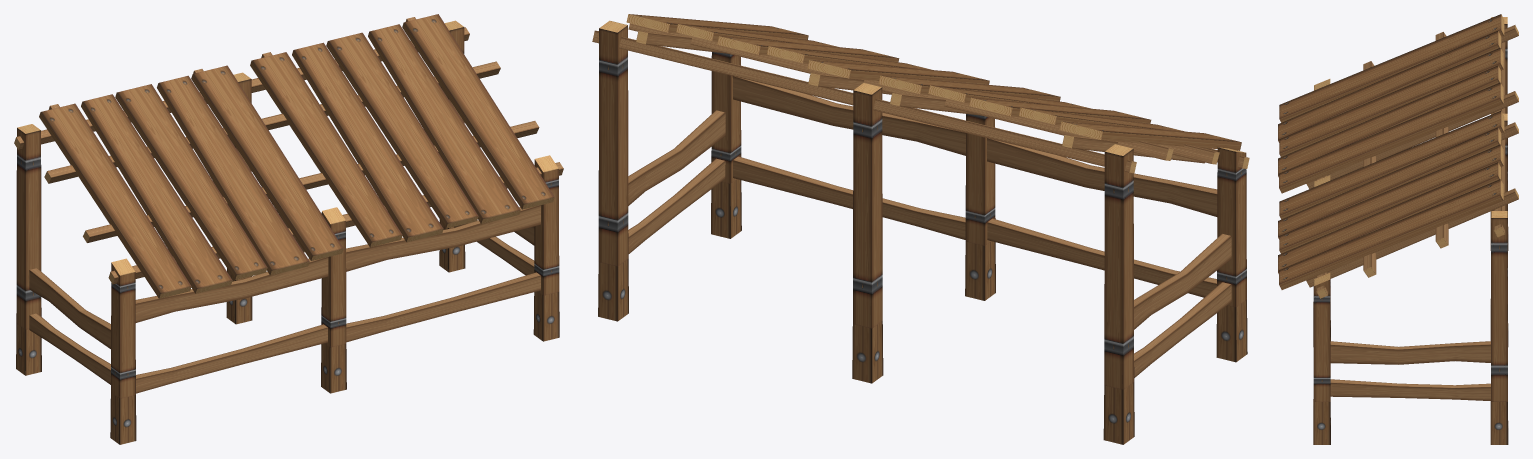
File: Shelters_02.FBX
3 renders of one model, left to right at view 1: azimuth 30°, elevation 25°; view 2: azimuth 150°, elevation 25°; view 3: azimuth 270°, elevation 25°, orthographic. The views are drawn at different scales.
Visible parts, largest first — view 1: Shelters_02; view 2: Shelters_02; view 3: Shelters_02.
Part boxes in pixels (x1,y1,x2,y2): Shelters_02: (14,14,563,444); Shelters_02: (592,14,1249,444); Shelters_02: (1278,14,1518,444).
Size of the model in its own units: 5.1 by 2.78 by 2.52.
